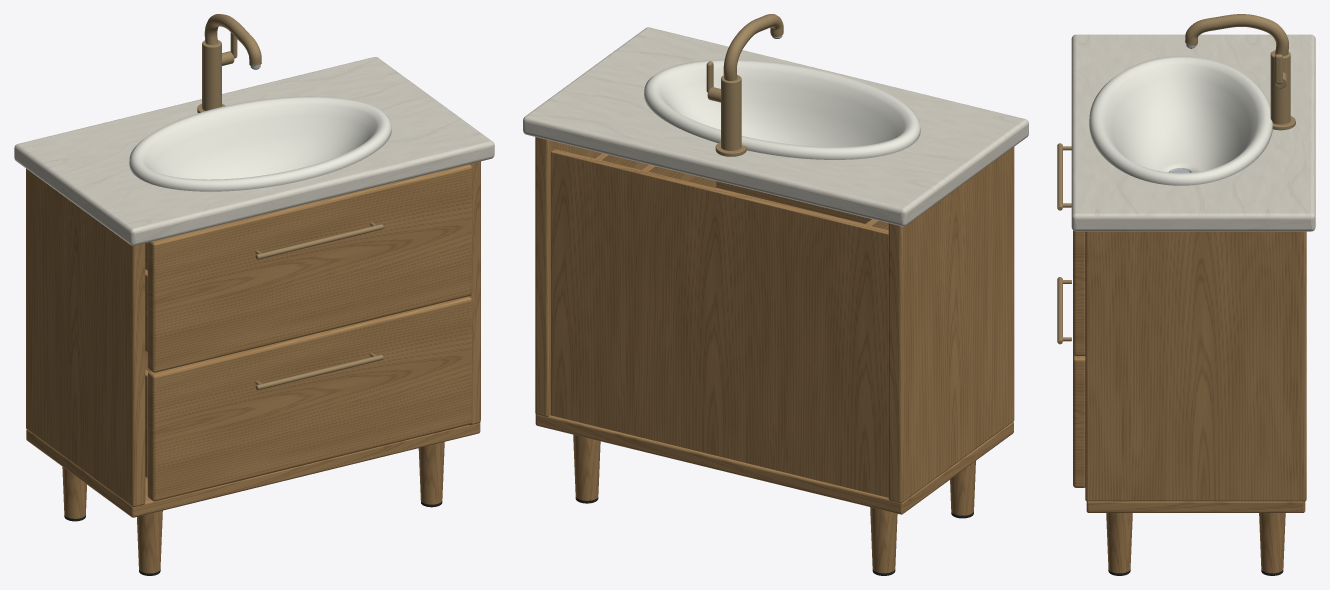
3 renders of one model, left to right at view 1: azimuth 30°, elevation 25°; view 2: azimuth 150°, elevation 25°; view 3: azimuth 270°, elevation 25°, orthographic. The views are drawn at different scales.
Visible parts, largest first — view 1: Drawer 1 | front, Drawer 0 | front, Cabinet | oak side, Counter | honed limestone composite, Basin | seamless concave ceramic, Cabinet | bottom, Cabinet | oak side.001, Leg | solid oak.002, Leg | solid oak, Faucet | upright body, Faucet | curved spout, Leg | solid oak.001 (+2 smaller); view 2: Cabinet | rear, Cabinet | oak side, Counter | honed limestone composite, Basin | seamless concave ceramic, Cabinet | bottom, Cabinet | oak side.001, Leg | solid oak.001, Leg | solid oak.003, Faucet | upright body, Faucet | curved spout, Leg | solid oak, Drawer 1 | front; view 3: Cabinet | oak side.001, Counter | honed limestone composite, Basin | seamless concave ceramic, Cabinet | bottom, Drawer 0 | front, Faucet | curved spout, Drawer 1 | front, Leg | solid oak.002, Leg | solid oak.003, Faucet | upright body, Drawer 1 | grip, Drawer 0 | grip.
Part boxes in pixels (box(x1,y1,x2,y2)): Drawer 1 | front: box(147, 164, 472, 372); Drawer 0 | front: box(147, 296, 472, 501); Cabinet | oak side: box(26, 168, 145, 506); Counter | honed limestone composite: box(14, 57, 494, 245); Basin | seamless concave ceramic: box(129, 96, 391, 191); Cabinet | bottom: box(26, 422, 480, 517); Cabinet | oak side.001: box(469, 161, 480, 425); Leg | solid oak.002: box(418, 442, 444, 504); Leg | solid oak: box(137, 510, 162, 573); Faucet | upright body: box(202, 40, 221, 110); Faucet | curved spout: box(204, 14, 261, 65); Leg | solid oak.001: box(62, 467, 86, 518); Cabinet | rear: box(550, 149, 888, 497); Cabinet | oak side: box(888, 147, 1014, 503); Counter | honed limestone composite: box(523, 27, 1028, 226); Basin | seamless concave ceramic: box(644, 59, 920, 159); Cabinet | bottom: box(535, 414, 1013, 514); Cabinet | oak side.001: box(535, 137, 601, 417); Leg | solid oak.001: box(870, 507, 897, 573); Leg | solid oak.003: box(573, 434, 600, 500); Faucet | upright body: box(721, 75, 741, 150); Faucet | curved spout: box(723, 14, 783, 80); Leg | solid oak: box(950, 461, 975, 515); Drawer 1 | front: box(716, 181, 871, 223); Cabinet | oak side.001: box(1085, 231, 1306, 501); Counter | honed limestone composite: box(1071, 34, 1315, 231); Basin | seamless concave ceramic: box(1089, 56, 1272, 185); Cabinet | bottom: box(1086, 501, 1305, 512); Drawer 0 | front: box(1073, 354, 1085, 487); Faucet | curved spout: box(1185, 14, 1288, 55); Drawer 1 | front: box(1073, 230, 1085, 355); Leg | solid oak.002: box(1106, 513, 1132, 573); Leg | solid oak.003: box(1259, 513, 1285, 573); Faucet | upright body: box(1270, 50, 1290, 124); Drawer 1 | grip: box(1057, 143, 1062, 210); Drawer 0 | grip: box(1057, 277, 1062, 344).
Bounding box in the file's own units: 0.936 × 1.17 × 0.561.
Materials: 7 (3 with a texture image).
